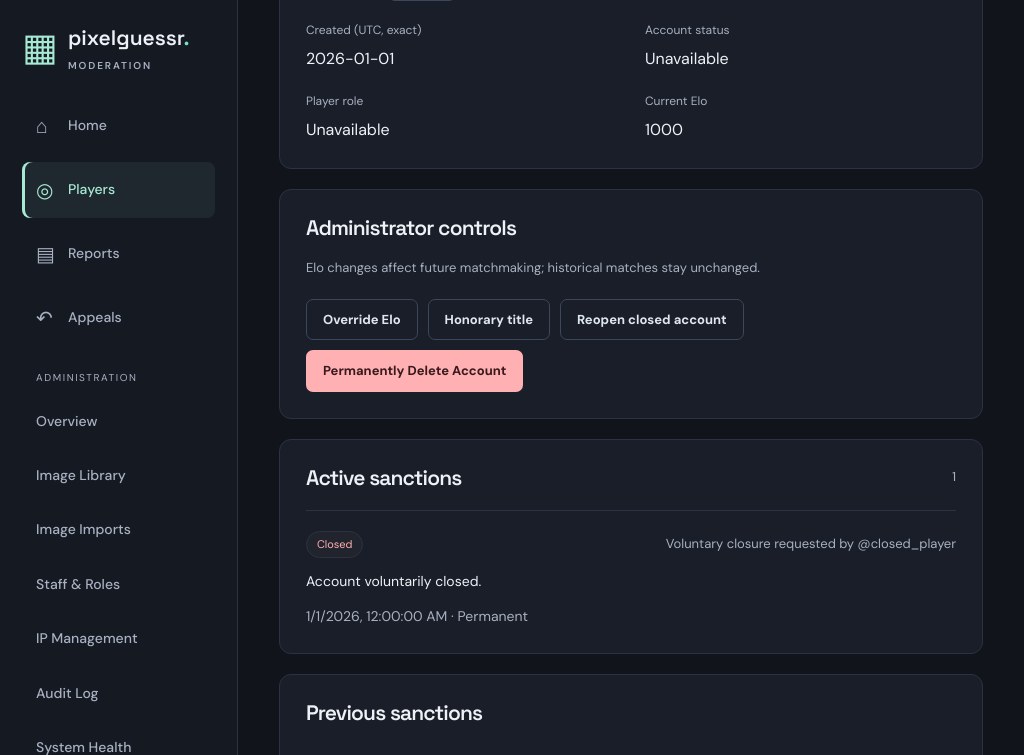
Test: requires all sensitive deletion fields and redirects only after success
The width and height of the screenshot is (1024, 755).
(page scrolled)
Click the button "Permanently Delete Account".
click(415, 371)  # box [306, 350, 523, 392]
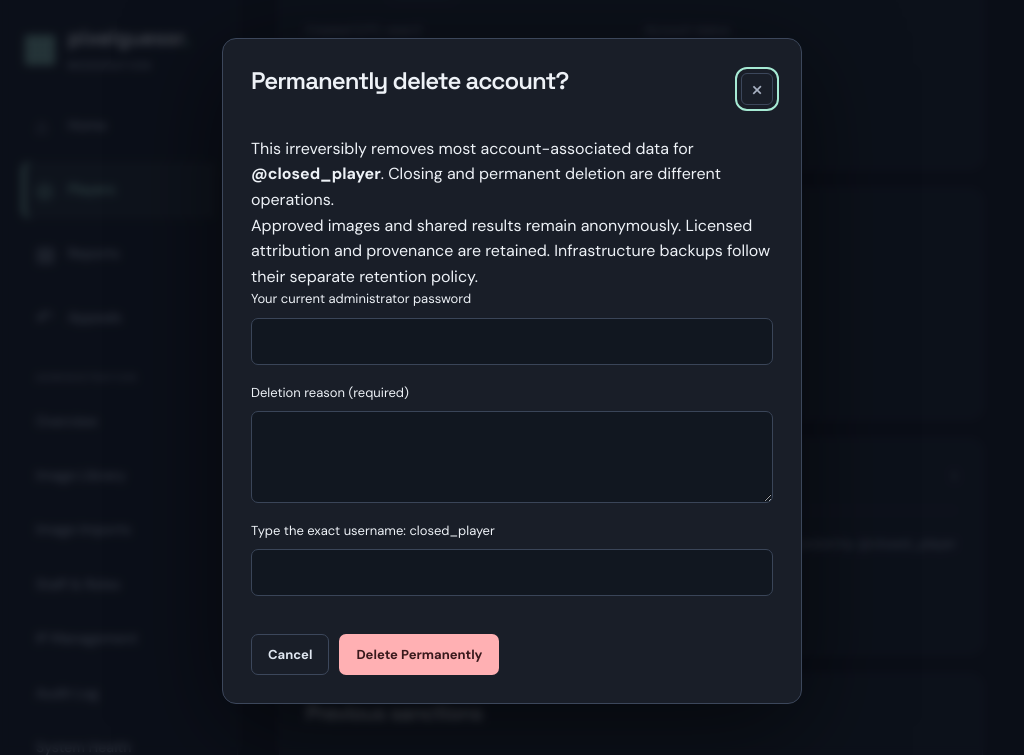
Type "test-only-admin-password" into the password field labelled "Your current administrator password".
click(512, 341); type("test-only-admin-password")  # box [251, 318, 773, 365]
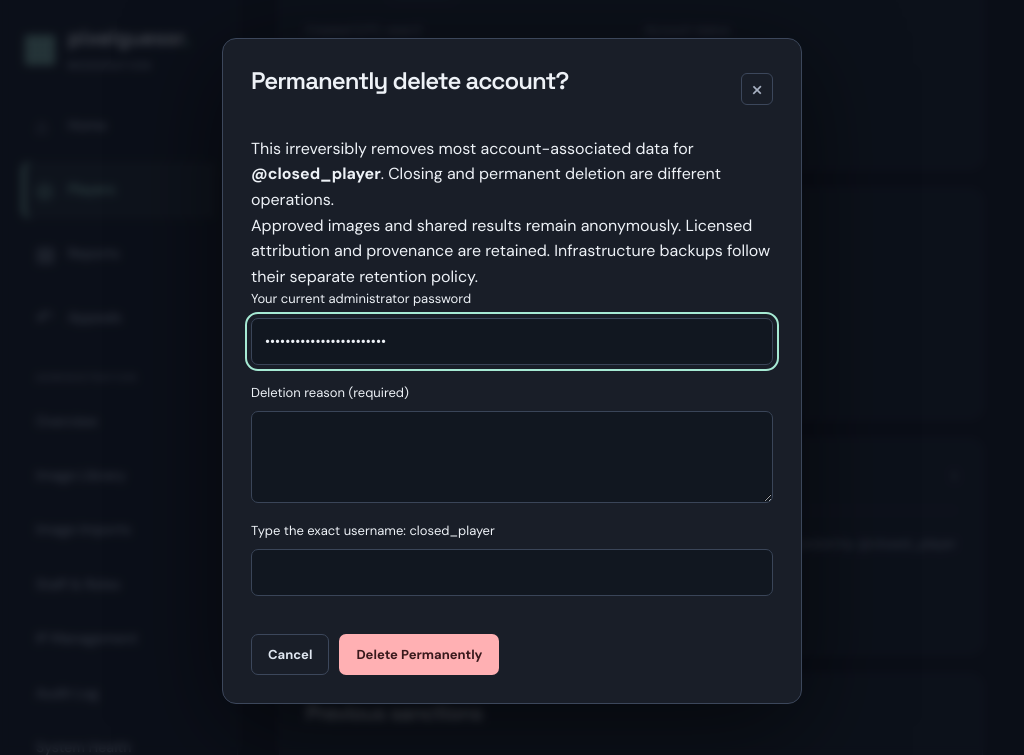
Type "Requested erasure" into the text box labelled "Deletion reason (required)".
click(512, 457); type("Requested erasure")  # box [251, 411, 773, 503]
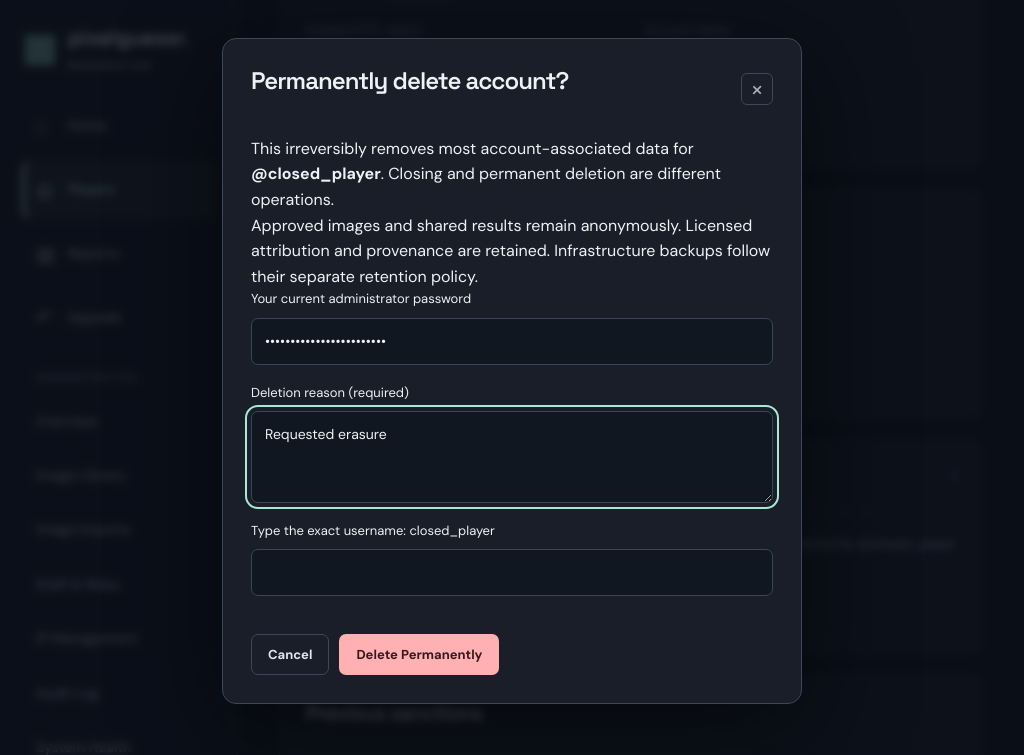
Type "closed_player" into the field labelled "Type the exact username: closed_player".
click(512, 573); type("closed_player")  # box [251, 549, 773, 596]
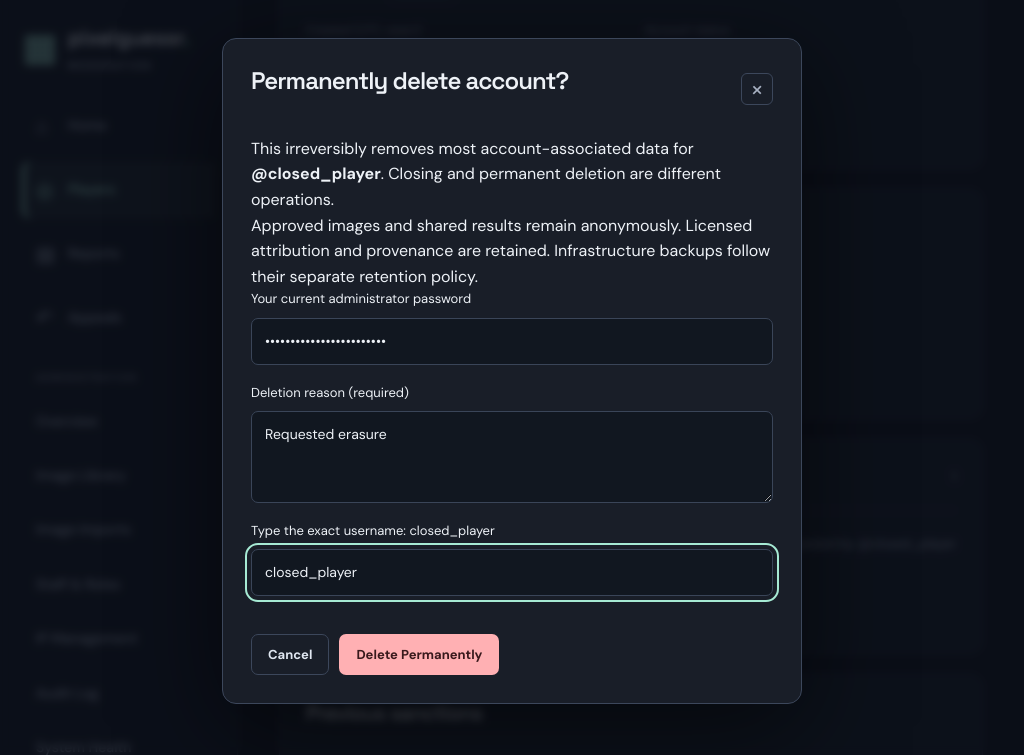
Click the button "Delete Permanently".
click(419, 655)  # box [339, 634, 499, 675]
(page scrolled)
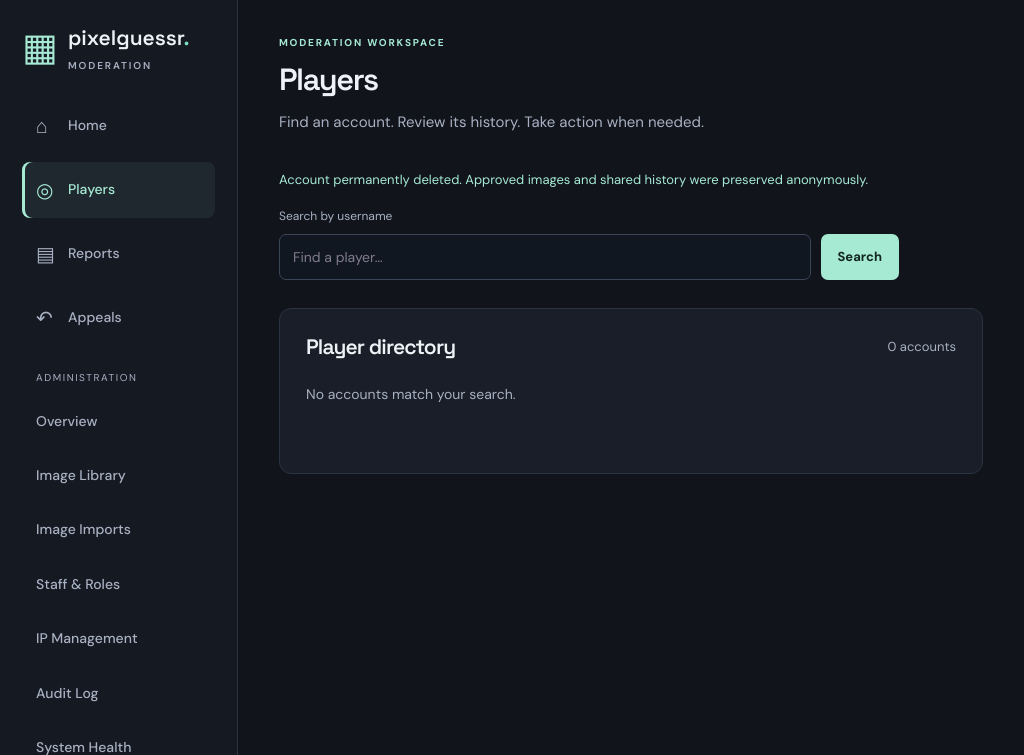
Expected: the text "Account permanently deleted. Approved images and shared history were preserved anonymously." is shown, [279, 171, 868, 188]
